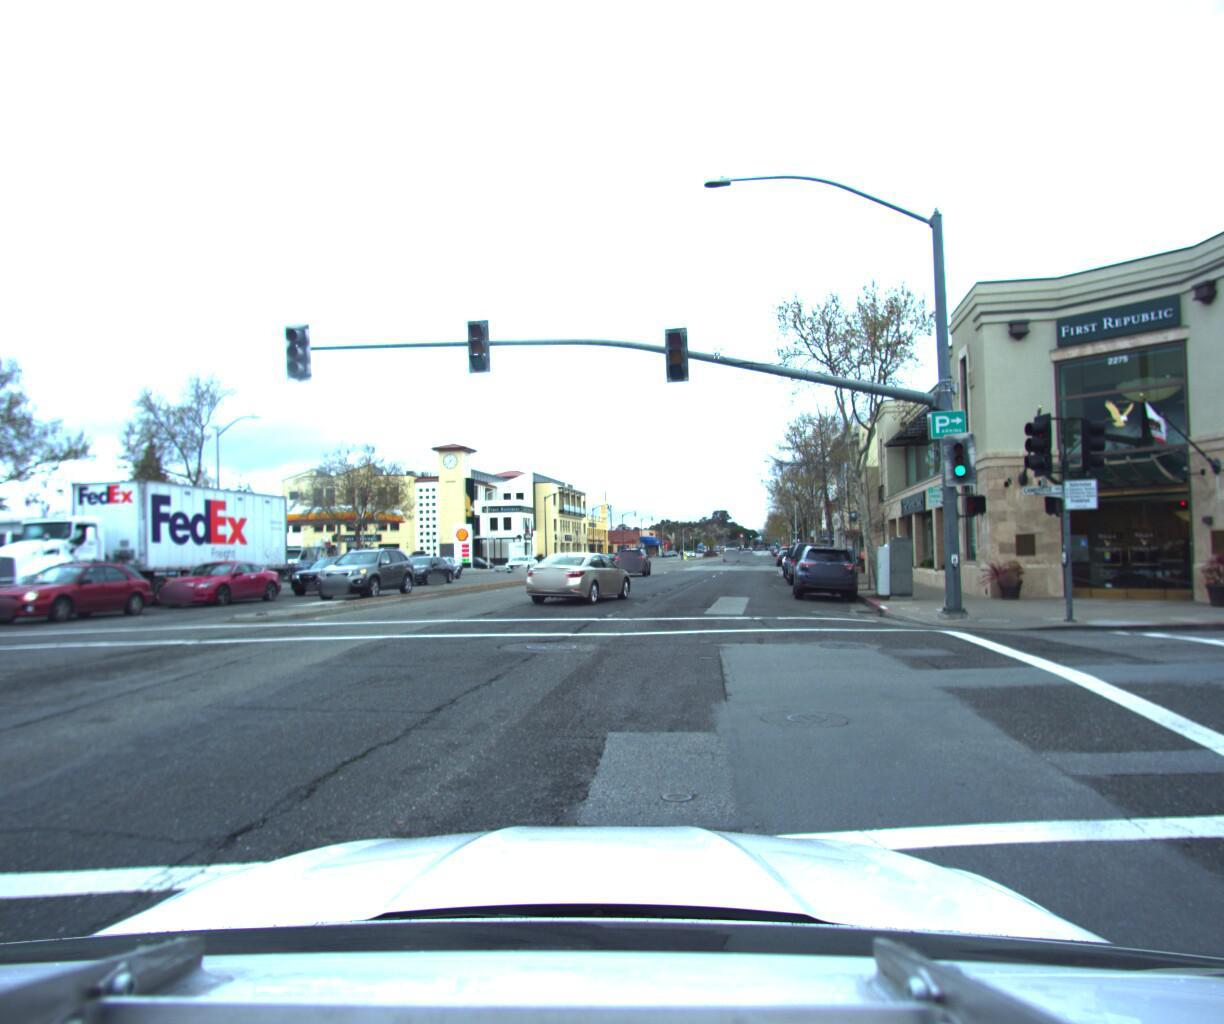car: (0, 564, 162, 633), (146, 565, 292, 616), (525, 556, 641, 612), (311, 552, 423, 609), (787, 546, 860, 612), (293, 562, 400, 604), (0, 565, 66, 633), (390, 554, 460, 595), (779, 543, 831, 595), (277, 554, 330, 581), (615, 551, 651, 583), (501, 555, 537, 578)
truck: (0, 466, 300, 630)
